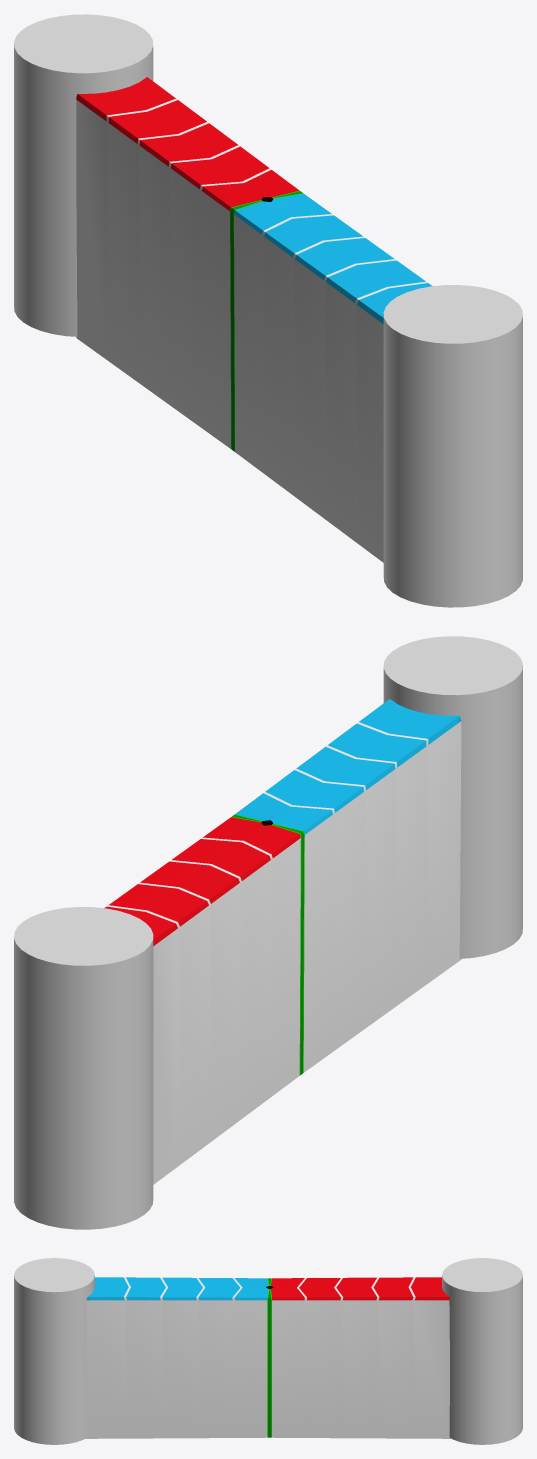
Rendered from platform_with_Child-objects-not-sure-about-pivots.fbx.
The picture shows the model from 3 angles, top to bottom: view 1: azimuth 30°, elevation 25°; view 2: azimuth 150°, elevation 25°; view 3: azimuth 270°, elevation 25°; orthographic projection. The views are drawn at different scales.
Parts seen in each view (by area): view 1: Cylinder.001, Cylinder, Cylinder.002, Cylinder.011, Cylinder.010, Cylinder.009, Cylinder.003, Cylinder.004, Cylinder.006, Cylinder.012, Cylinder.007, Cylinder.008 (+1 smaller); view 2: Cylinder.001, Cylinder.002, Cylinder, Cylinder.003, Cylinder.005, Cylinder.004, Cylinder.006, Cylinder.011, Cylinder.010, Cylinder.009, Cylinder.008, Cylinder.007 (+1 smaller); view 3: Cylinder.001, Cylinder.002, Cylinder, Cylinder.003, Cylinder.011, Cylinder.004, Cylinder.010, Cylinder.006, Cylinder.009, Cylinder.005, Cylinder.012, Cylinder.007 (+1 smaller).
Part boxes in pixels (left/top/right/bottom): Cylinder.001: left=76, top=98, right=427, bottom=562; Cylinder: left=383, top=285, right=522, bottom=607; Cylinder.002: left=14, top=14, right=153, bottom=336; Cylinder.011: left=108, top=100, right=206, bottom=143; Cylinder.010: left=139, top=123, right=237, bottom=166; Cylinder.009: left=171, top=146, right=269, bottom=189; Cylinder.003: left=326, top=260, right=425, bottom=302; Cylinder.004: left=295, top=238, right=394, bottom=280; Cylinder.006: left=264, top=215, right=362, bottom=257; Cylinder.012: left=76, top=77, right=175, bottom=120; Cylinder.007: left=234, top=193, right=331, bottom=234; Cylinder.008: left=202, top=169, right=299, bottom=210; Cylinder.001: left=107, top=699, right=462, bottom=1184; Cylinder.002: left=14, top=907, right=153, bottom=1229; Cylinder: left=383, top=636, right=522, bottom=958; Cylinder.003: left=328, top=723, right=426, bottom=767; Cylinder.005: left=359, top=699, right=458, bottom=744; Cylinder.004: left=296, top=746, right=395, bottom=789; Cylinder.006: left=265, top=770, right=363, bottom=812; Cylinder.011: left=109, top=884, right=208, bottom=926; Cylinder.010: left=140, top=861, right=239, bottom=903; Cylinder.009: left=172, top=839, right=270, bottom=880; Cylinder.008: left=203, top=817, right=300, bottom=857; Cylinder.007: left=235, top=793, right=332, bottom=834; Cylinder.001: left=85, top=1277, right=450, bottom=1438; Cylinder.002: left=442, top=1258, right=522, bottom=1444; Cylinder: left=14, top=1258, right=94, bottom=1444; Cylinder.003: left=126, top=1277, right=165, bottom=1300; Cylinder.011: left=373, top=1277, right=413, bottom=1300; Cylinder.004: left=162, top=1277, right=202, bottom=1300; Cylinder.010: left=336, top=1277, right=377, bottom=1300; Cylinder.006: left=198, top=1278, right=240, bottom=1300; Cylinder.009: left=299, top=1278, right=340, bottom=1300; Cylinder.005: left=89, top=1277, right=128, bottom=1300; Cylinder.012: left=411, top=1277, right=449, bottom=1300; Cylinder.007: left=234, top=1278, right=268, bottom=1300.
Size of the model in its own units: 1324 by 2778 by 8326.
